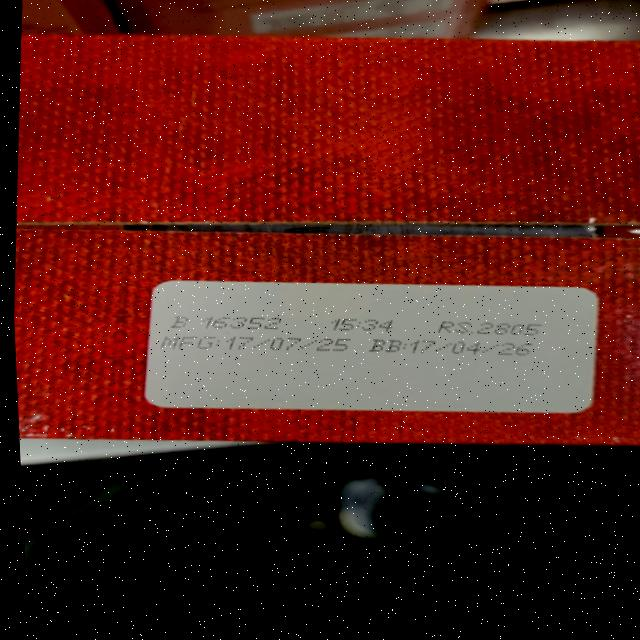BB: (369, 327, 537, 367)
Batch: (167, 308, 285, 337)
MFG: (161, 323, 351, 365)
RS: (434, 314, 544, 343)
TimeStamp: (329, 314, 395, 336)
